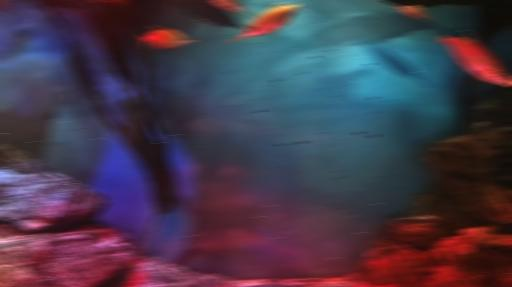Fish: (439, 30, 511, 82), (364, 45, 431, 87), (230, 1, 300, 41), (174, 0, 247, 28), (140, 25, 195, 49), (216, 0, 255, 18), (396, 6, 429, 21), (372, 259, 391, 283), (0, 1, 22, 13), (359, 281, 366, 286), (222, 281, 226, 286), (91, 0, 98, 2), (387, 284, 391, 286)
